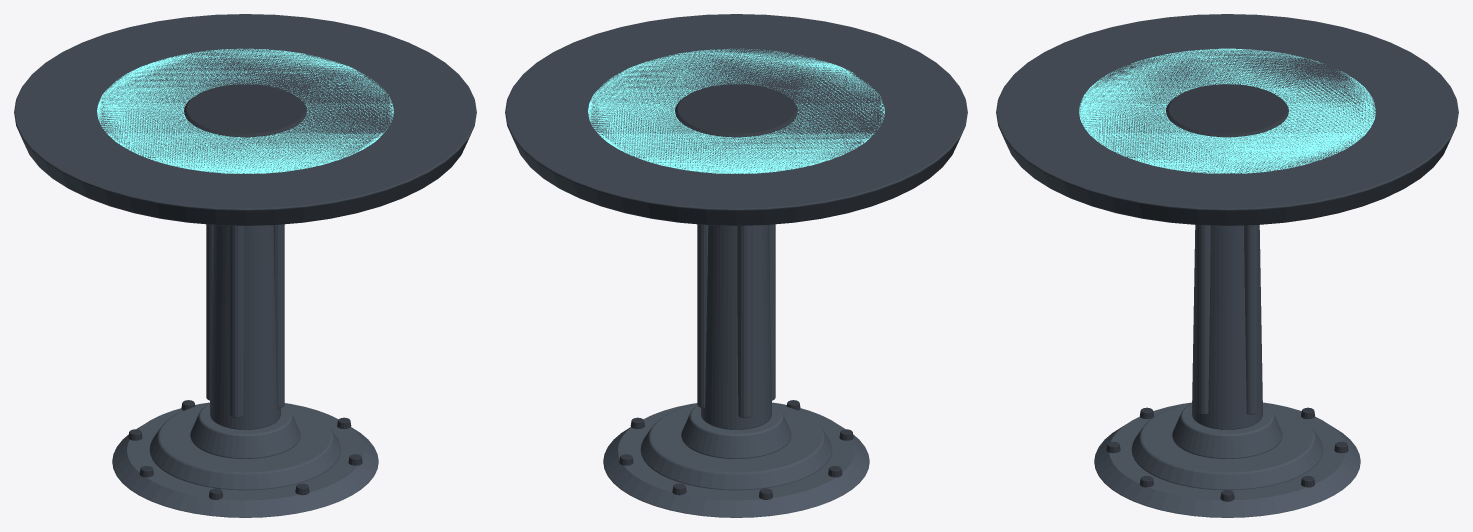
Rendered from cantina_04_round_table.glb.
3 views of the same model, side by side, from view 1: azimuth 30°, elevation 25°; view 2: azimuth 150°, elevation 25°; view 3: azimuth 270°, elevation 25° (orthographic).
Visible parts, largest first — view 1: Tabletop_Surface, Table_Base_Plate, Table_Cyan_Light_Ring, Table_Pedestal, Table_Center_Core, Table_Base_Bolts; view 2: Tabletop_Surface, Table_Base_Plate, Table_Cyan_Light_Ring, Table_Pedestal, Table_Center_Core, Table_Base_Bolts; view 3: Tabletop_Surface, Table_Cyan_Light_Ring, Table_Base_Plate, Table_Pedestal, Table_Center_Core, Table_Base_Bolts.
Boxes of the visible parts, left/top/right/bottom form: Tabletop_Surface: left=14, top=14, right=476, bottom=225; Table_Base_Plate: left=112, top=402, right=378, bottom=517; Table_Cyan_Light_Ring: left=97, top=48, right=393, bottom=173; Table_Pedestal: left=206, top=224, right=284, bottom=429; Table_Center_Core: left=184, top=84, right=306, bottom=137; Table_Base_Bolts: left=128, top=400, right=362, bottom=499; Tabletop_Surface: left=505, top=14, right=967, bottom=225; Table_Base_Plate: left=603, top=402, right=869, bottom=517; Table_Cyan_Light_Ring: left=588, top=48, right=884, bottom=173; Table_Pedestal: left=697, top=224, right=775, bottom=429; Table_Center_Core: left=675, top=84, right=797, bottom=137; Table_Base_Bolts: left=619, top=400, right=853, bottom=499; Tabletop_Surface: left=996, top=14, right=1458, bottom=225; Table_Cyan_Light_Ring: left=1079, top=48, right=1375, bottom=173; Table_Base_Plate: left=1094, top=402, right=1360, bottom=517; Table_Pedestal: left=1192, top=225, right=1262, bottom=429; Table_Center_Core: left=1166, top=84, right=1288, bottom=137; Table_Base_Bolts: left=1106, top=407, right=1348, bottom=501.
Size of the model in its own units: 0.8974 by 0.755 by 0.8974.
